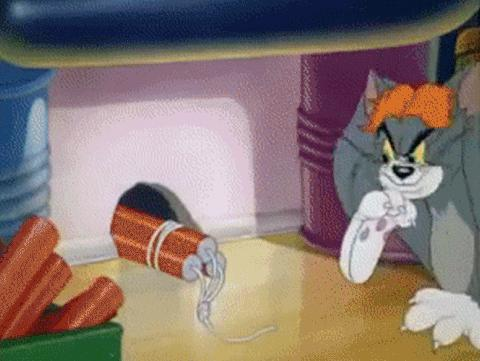tom: (334, 63, 480, 348)
